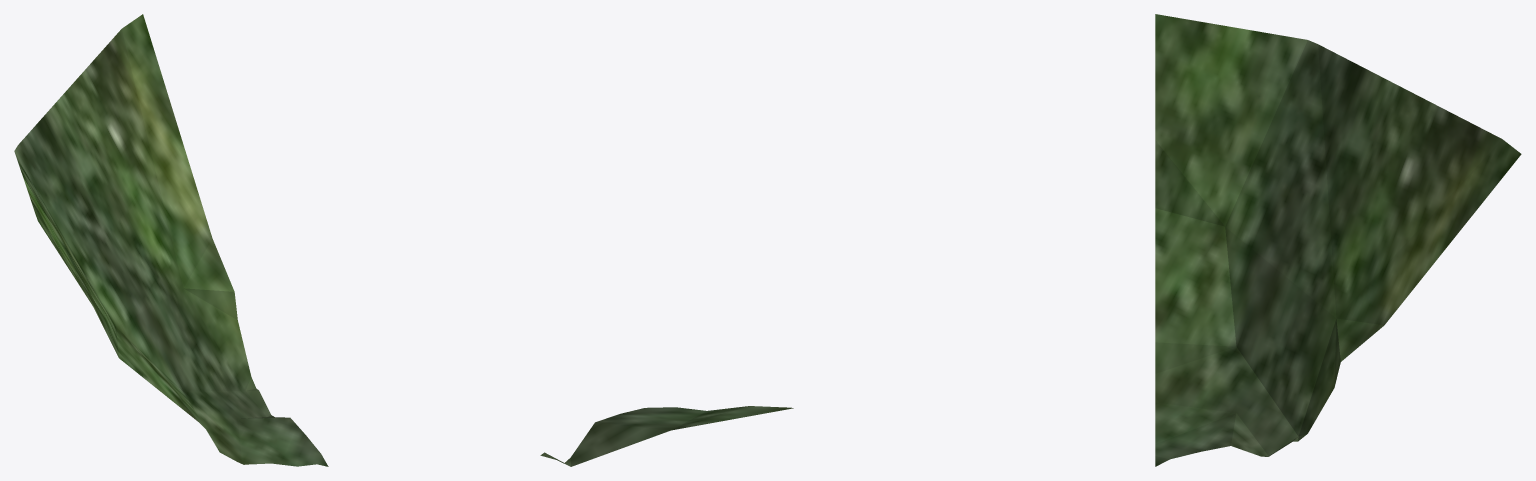
3 renders of one model, left to right at view 1: azimuth 30°, elevation 25°; view 2: azimuth 150°, elevation 25°; view 3: azimuth 270°, elevation 25°, orthographic. The views are drawn at different scales.
Bounding box in the file's own units: 0.8115 × 0.8451 × 0.8968.
1 material, 1 textured.
